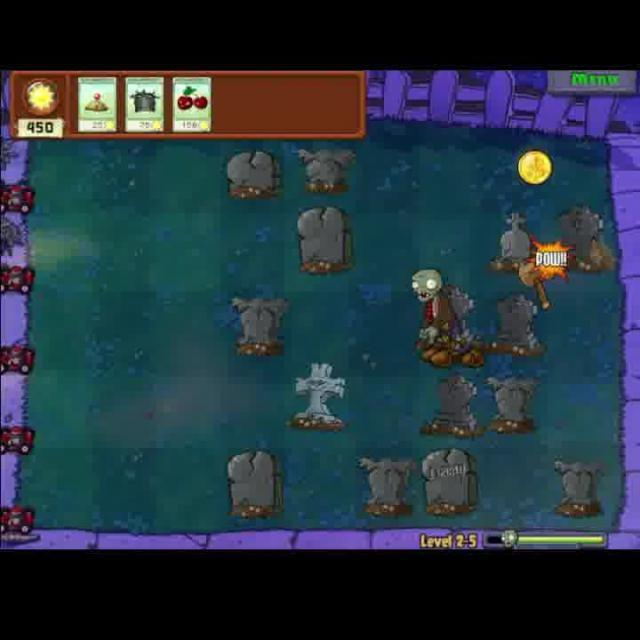coins: (514, 147, 557, 188)
zombies: (410, 266, 470, 364)
